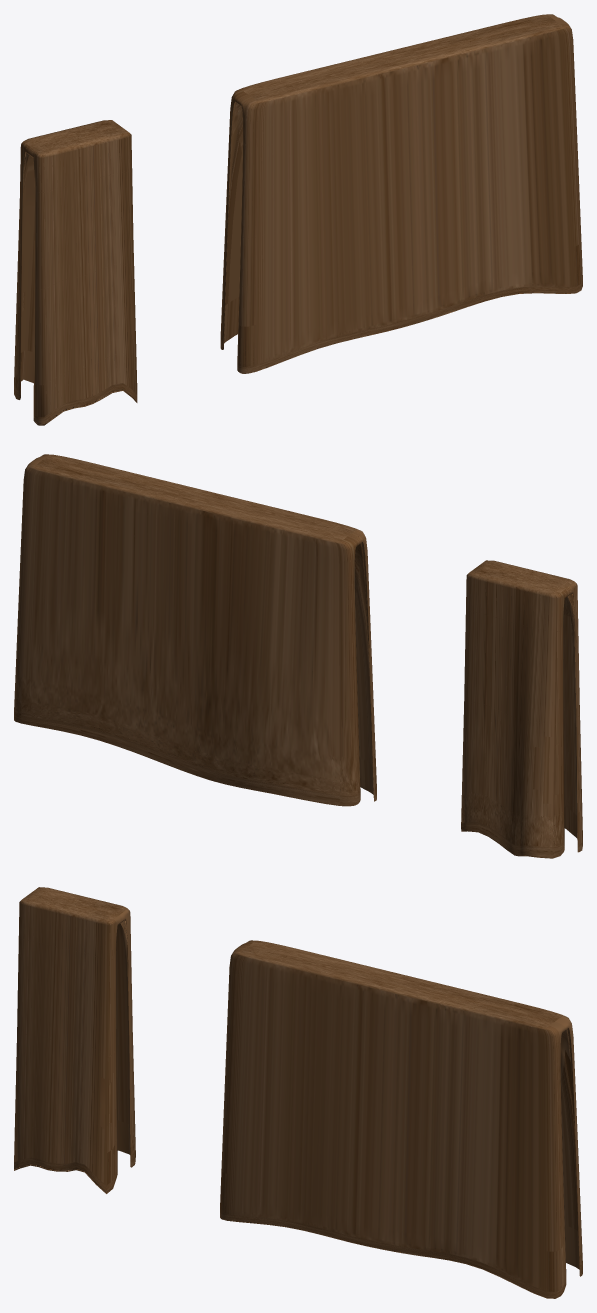
File: animalSkin.glb
The picture shows the model from 3 angles, top to bottom: view 1: azimuth 30°, elevation 25°; view 2: azimuth 150°, elevation 25°; view 3: azimuth 330°, elevation 25°; orthographic projection.
Parts seen in each view (by area): view 1: pasted__pCube6, pasted__pCube5; view 2: pasted__pCube6, pasted__pCube5; view 3: pasted__pCube6, pasted__pCube5.
Boxes of the visible parts, box(x1,y1,x2,y2) form: pasted__pCube6: box(220, 14, 582, 373); pasted__pCube5: box(14, 120, 137, 425); pasted__pCube6: box(14, 454, 376, 806); pasted__pCube5: box(461, 560, 582, 858); pasted__pCube6: box(220, 940, 582, 1298); pasted__pCube5: box(14, 887, 135, 1193).
Bounding box in the file's own units: 6.53 × 3.08 × 0.8837.
1 material, 1 textured.
